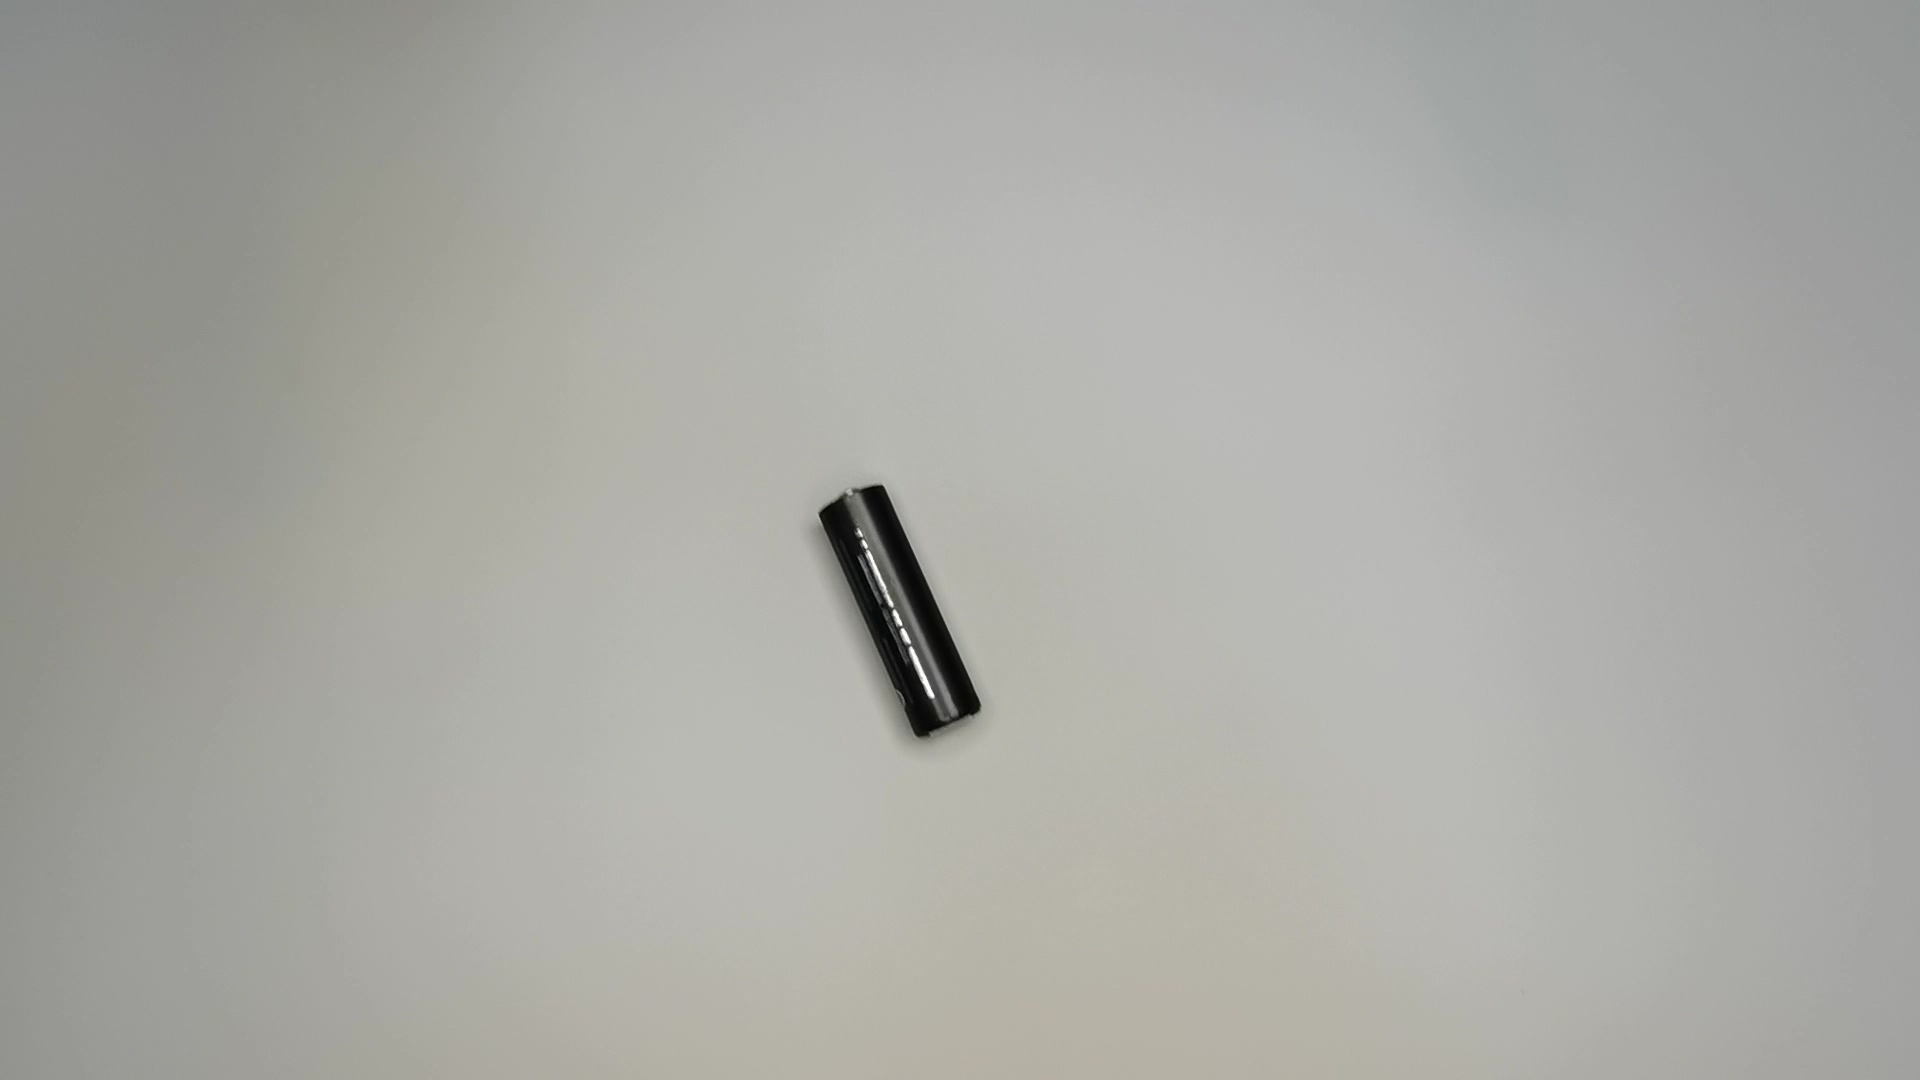battery: (812, 475, 986, 752)
